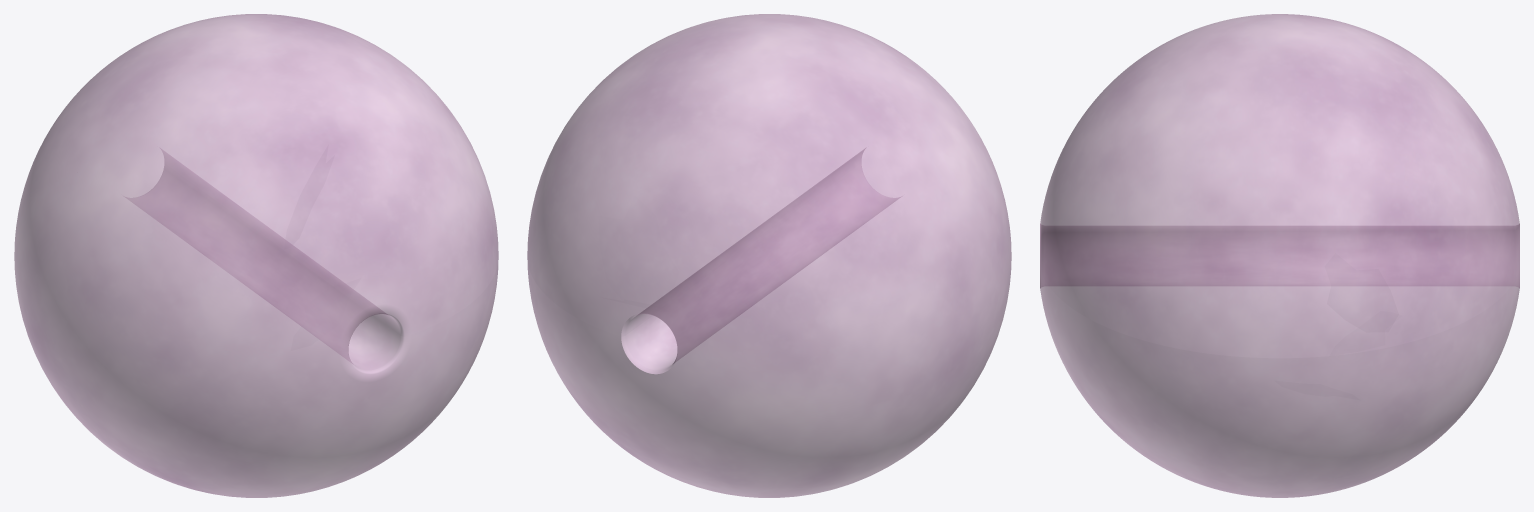
Rendered from kunzite.glb.
The picture shows the model from 3 angles, left to right: view 1: azimuth 30°, elevation 25°; view 2: azimuth 150°, elevation 25°; view 3: azimuth 270°, elevation 25°; orthographic projection.
Visible parts, largest first — view 1: kunzite.001; view 2: kunzite.001; view 3: kunzite.001.
Part boxes in pixels (x1=…): kunzite.001: x1=14, y1=14, x2=498, y2=497; kunzite.001: x1=527, y1=14, x2=1011, y2=497; kunzite.001: x1=1040, y1=14, x2=1519, y2=497.
Bounding box in the file's own units: 0.008 × 0.008 × 0.00793.
2 materials, 1 textured.
